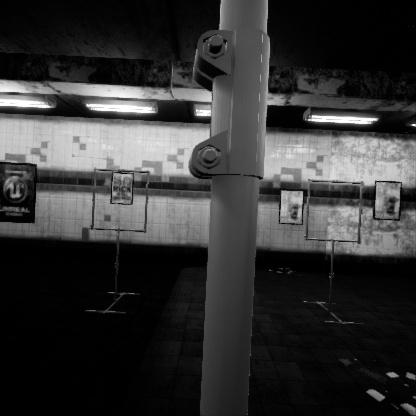gate: (91, 182, 154, 248), (305, 172, 368, 237)
